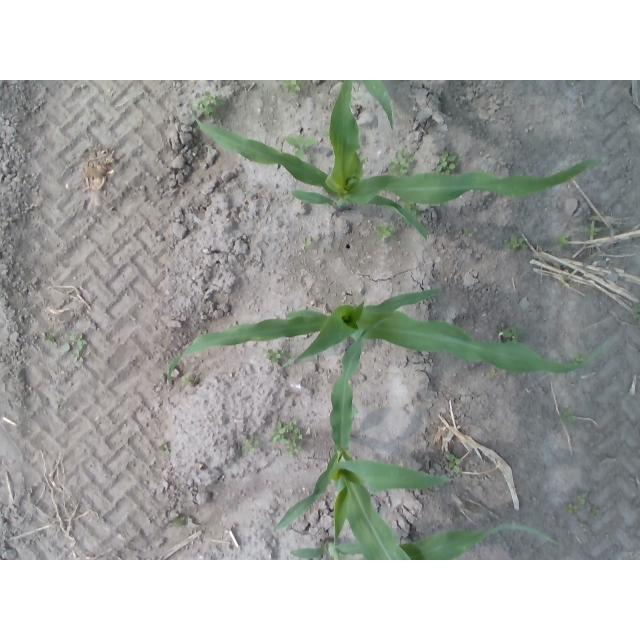Maize: (189, 81, 599, 243), (168, 287, 605, 387), (278, 316, 451, 559), (292, 524, 559, 561), (323, 80, 395, 130)
Weeds: (275, 419, 304, 449), (284, 136, 316, 152), (391, 151, 414, 173), (435, 152, 457, 172), (242, 433, 258, 453), (559, 235, 581, 249), (201, 92, 223, 106), (60, 344, 80, 357), (69, 332, 85, 348), (557, 409, 575, 423), (447, 453, 462, 469), (377, 223, 393, 238), (181, 372, 199, 385), (503, 325, 519, 339), (42, 333, 58, 347), (511, 236, 525, 249), (285, 82, 302, 92), (198, 103, 214, 113), (567, 503, 579, 514), (268, 351, 280, 362), (578, 492, 588, 505), (471, 229, 477, 236)
